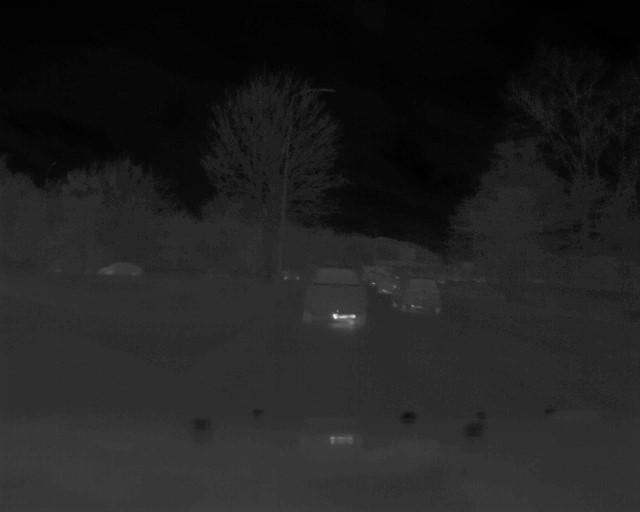car: (303, 263, 367, 327), (390, 278, 441, 312), (96, 256, 145, 278)
